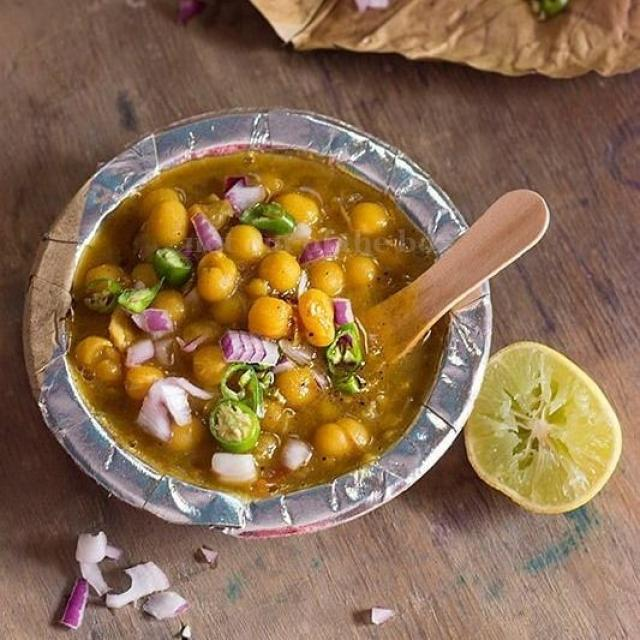Chole: (92, 169, 364, 479)
